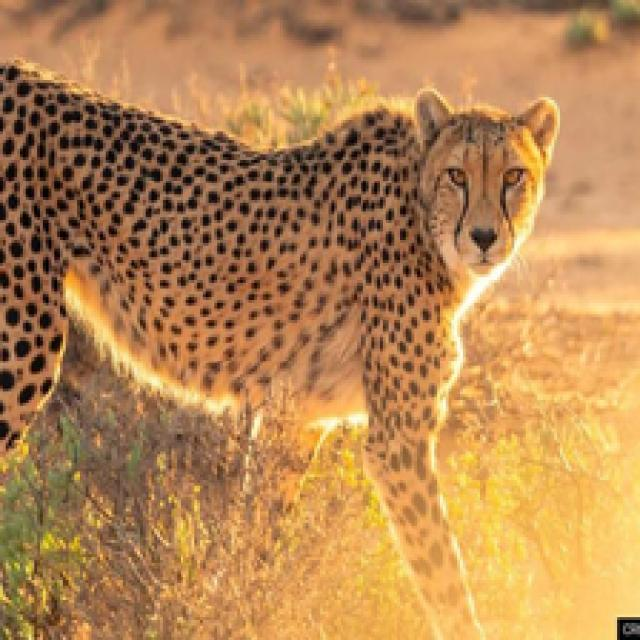cheetah: (0, 26, 517, 623)
